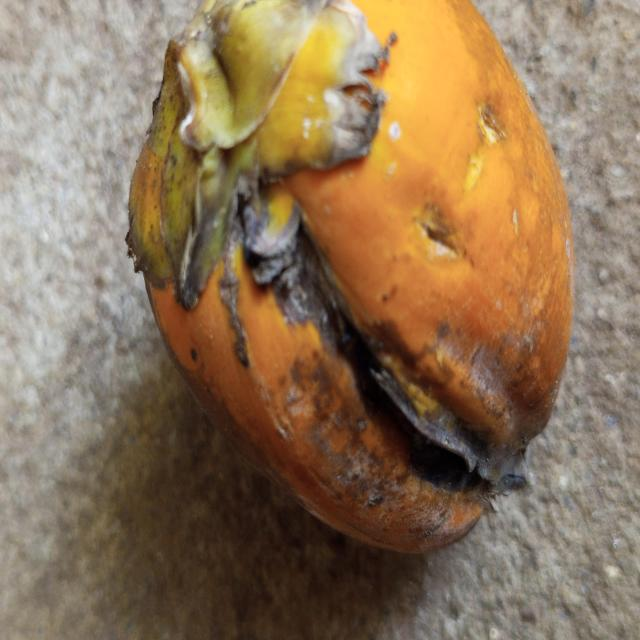damaged: (126, 0, 575, 558)
